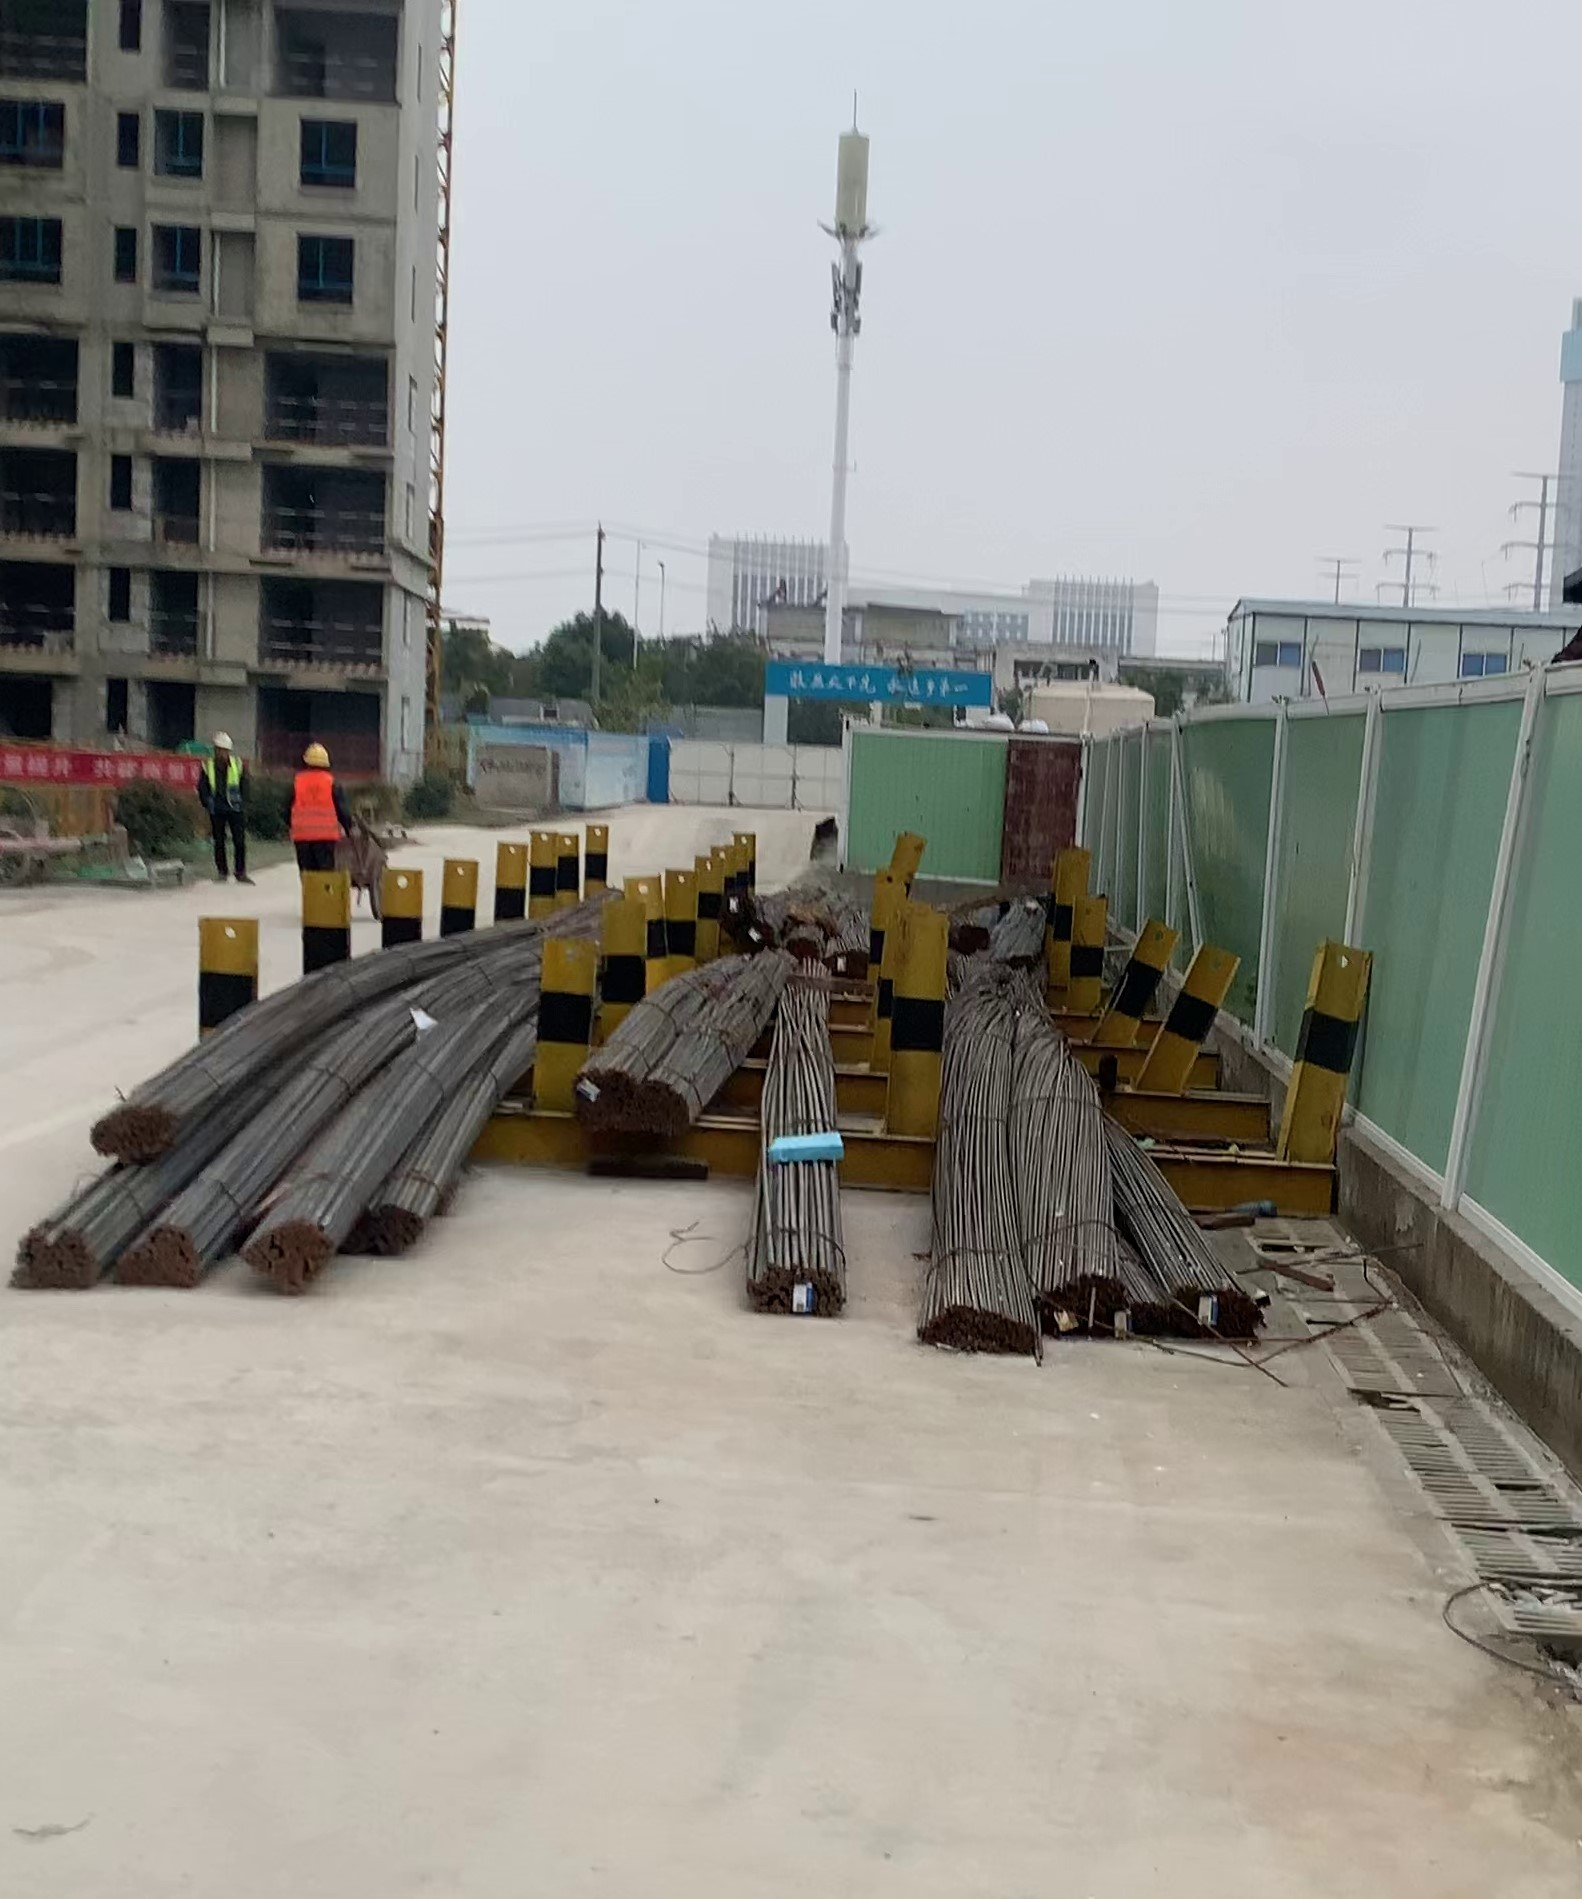rebar: (1139, 1281, 1267, 1349), (746, 1251, 850, 1322), (918, 1298, 1030, 1361), (248, 1218, 336, 1296), (87, 1104, 189, 1161), (117, 1218, 197, 1289), (14, 1229, 93, 1290), (1043, 1273, 1117, 1333), (634, 1073, 699, 1132), (350, 1211, 426, 1257), (569, 1066, 626, 1125)
